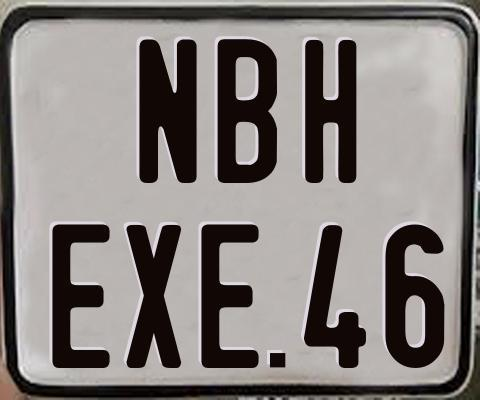4: (301, 223, 363, 370)
6: (384, 224, 448, 374)
B: (217, 38, 276, 188)
E: (200, 222, 263, 370), (52, 222, 111, 369)
H: (305, 39, 358, 188)
N: (136, 39, 196, 184)
X: (123, 225, 183, 373)
